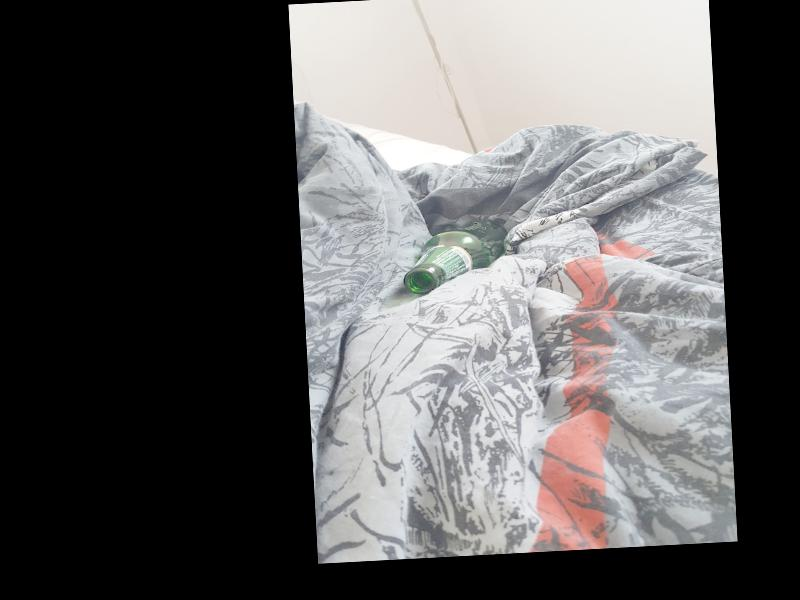Beer: (400, 219, 511, 296)
